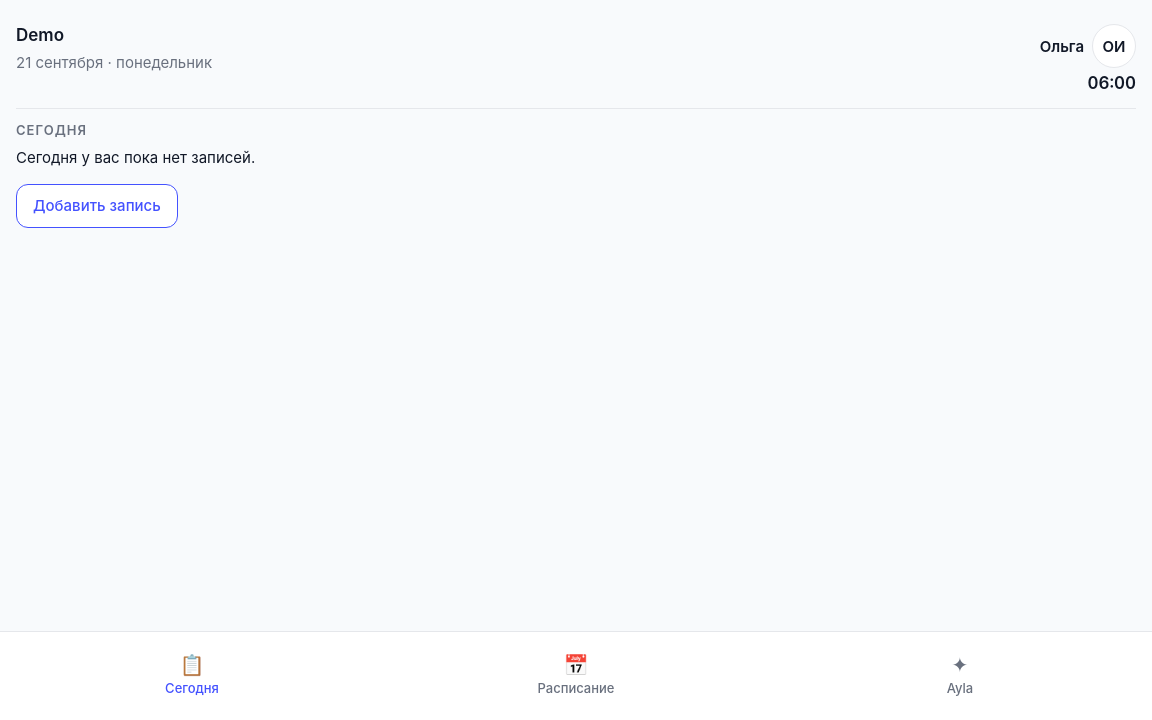
Test: случай A — соло-раскладка, каталог: салон (DRF-2254) › в листе аватара нет «Услуг», остальное на месте
Click the button with aria-label "Меню профиля" at (1114, 46), box left=1092, top=24, right=1136, bottom=68
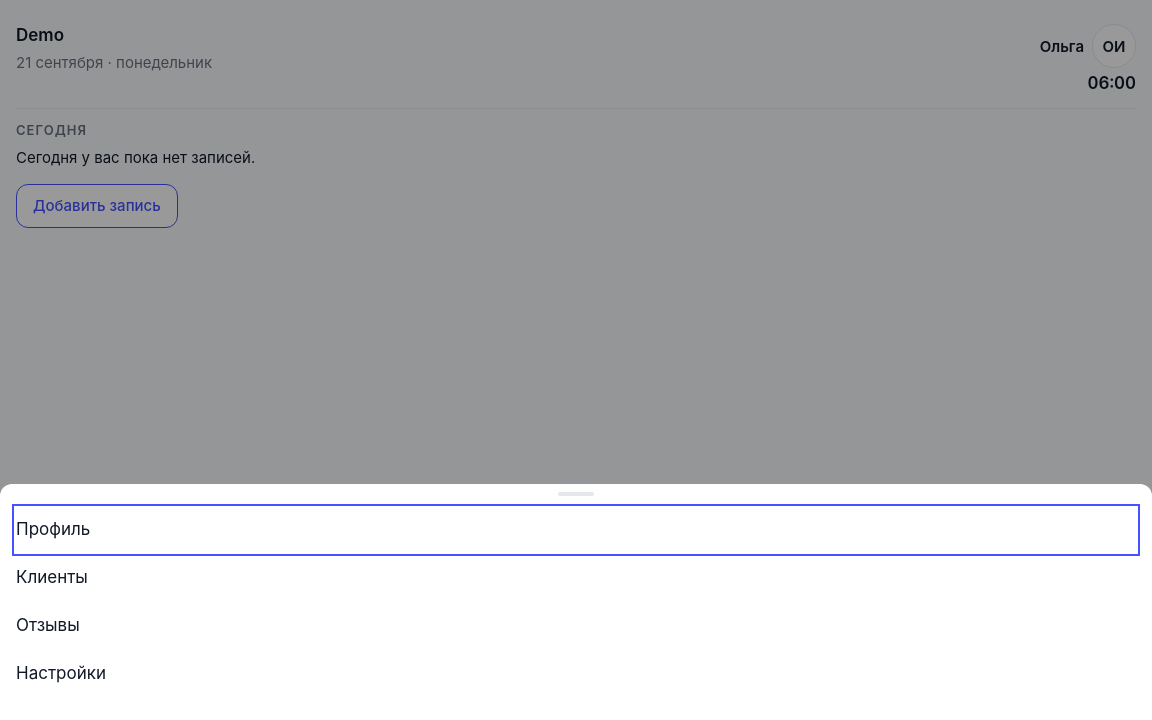
Check: the button "Профиль" is shown, box left=16, top=508, right=1136, bottom=552
